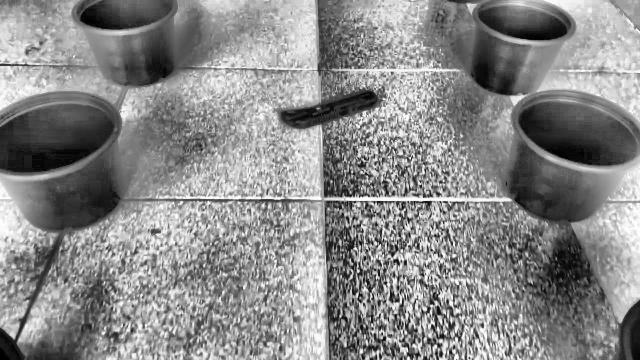pot: (469, 0, 640, 224), (0, 92, 125, 232), (72, 0, 178, 88)
